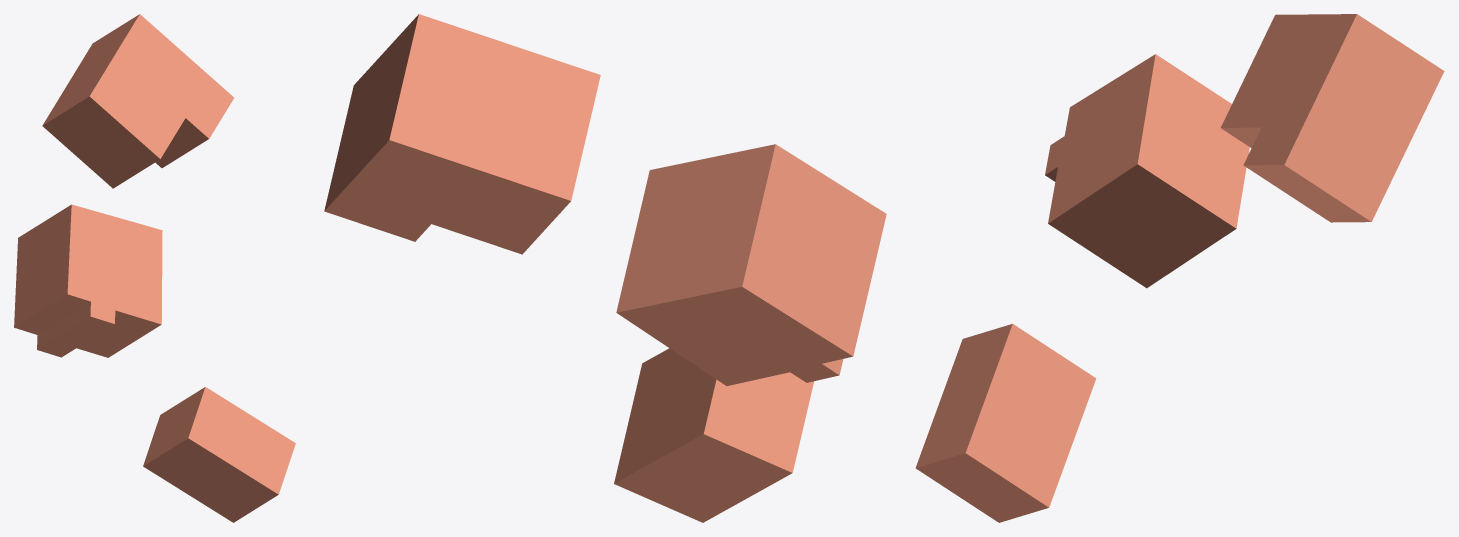
3 renders of one model, left to right at view 1: azimuth 30°, elevation 25°; view 2: azimuth 150°, elevation 25°; view 3: azimuth 270°, elevation 25°, orthographic. The views are drawn at different scales.
Visible parts, largest first — view 1: mesh; view 2: mesh; view 3: mesh.
Part boxes in pixels (bbox=[...]): mesh: bbox=[14, 14, 295, 522]; mesh: bbox=[324, 14, 886, 522]; mesh: bbox=[915, 14, 1444, 522].
Size of the model in its own units: 52.54 by 76.36 by 68.39.
